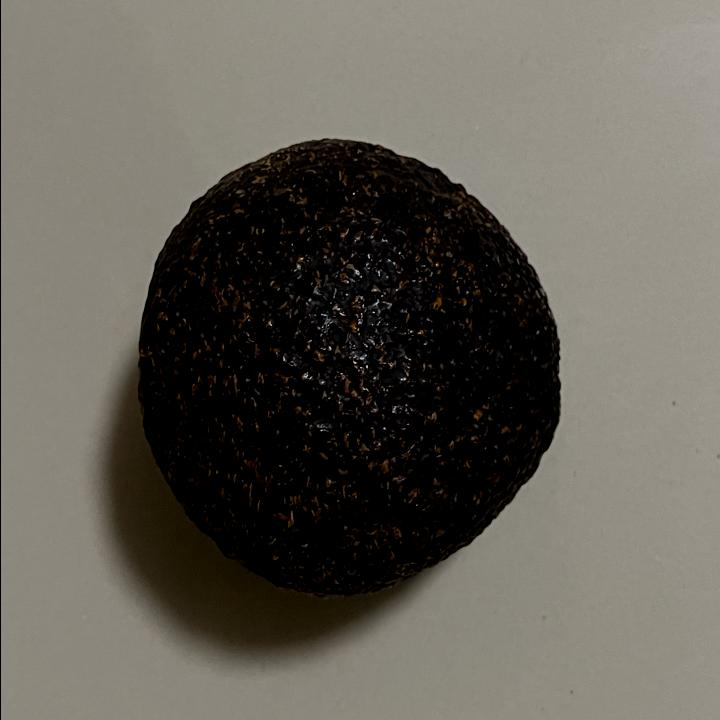Level3: (127, 126, 576, 608)
